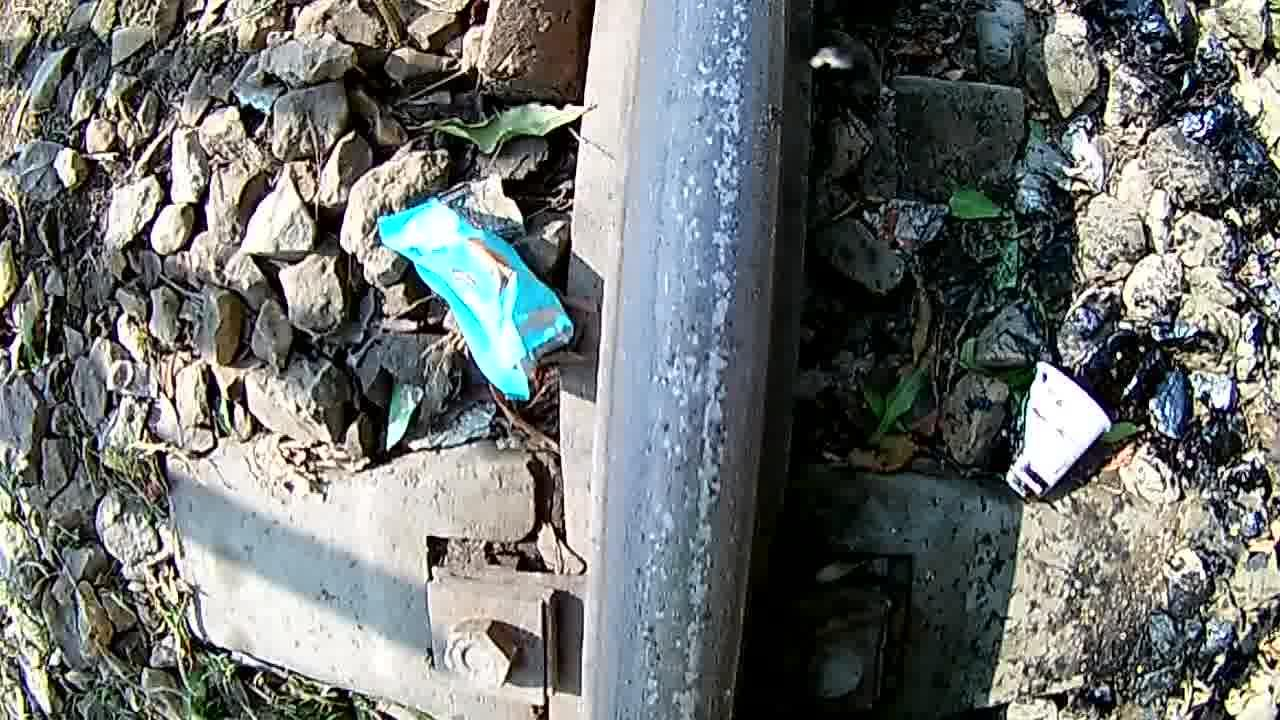clip_missing: (599, 0, 804, 720)
